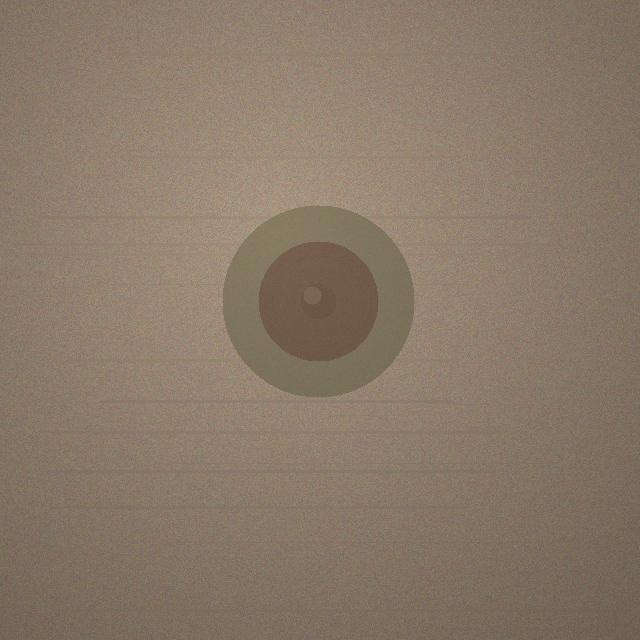good: (222, 205, 414, 397)
